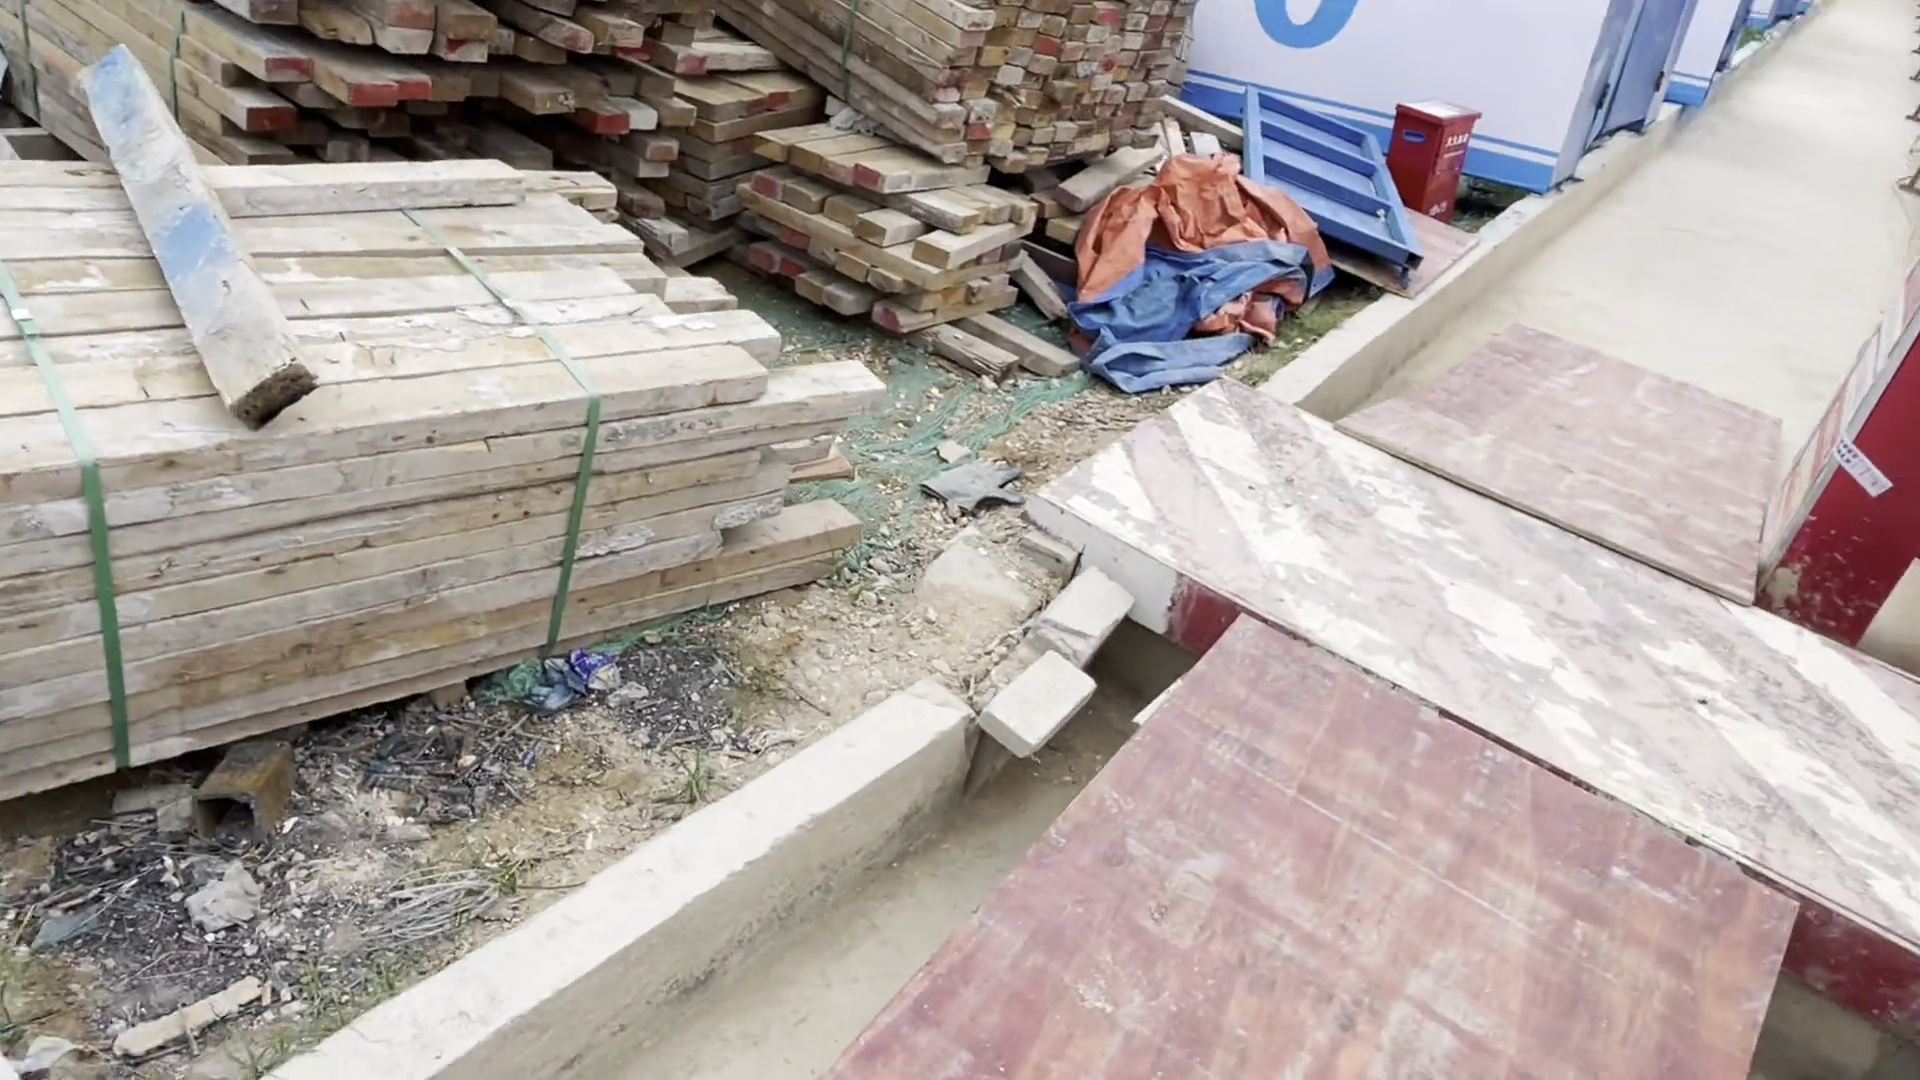board: (789, 324, 1811, 1069)
wood: (4, 149, 832, 756), (28, 1, 1185, 323)
